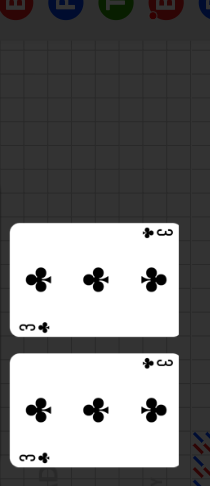3C: (140, 356, 175, 371), (140, 225, 175, 240)
